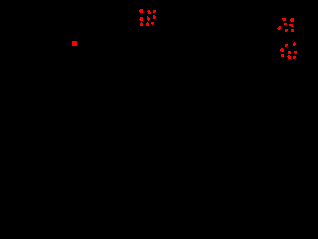Target: (72, 41, 77, 46), (139, 9, 143, 13), (147, 10, 151, 14), (139, 17, 143, 21), (290, 18, 294, 22), (277, 26, 281, 30), (280, 48, 284, 52), (287, 55, 291, 59), (147, 16, 150, 21), (153, 15, 156, 19), (282, 18, 286, 21), (140, 22, 143, 26), (146, 22, 149, 26), (289, 24, 293, 27), (293, 42, 296, 46), (153, 10, 156, 13), (151, 22, 154, 25), (285, 29, 288, 32), (291, 29, 294, 32), (285, 44, 288, 47), (288, 51, 291, 54), (294, 51, 297, 54), (281, 54, 284, 57), (293, 56, 296, 59), (284, 23, 287, 25)
